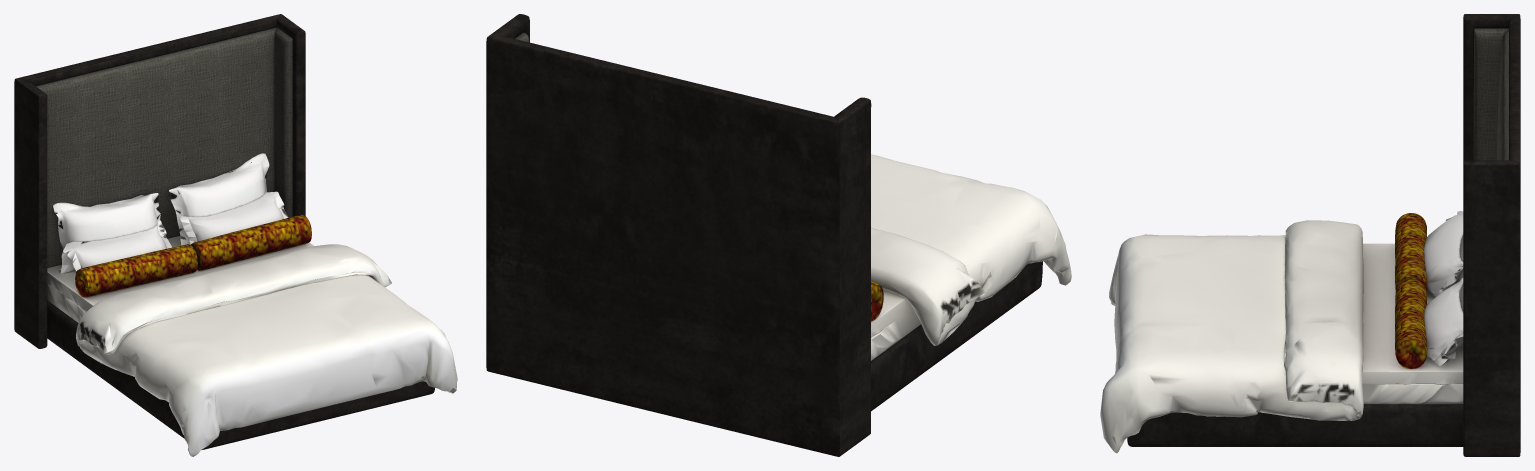
Rendered from raw_model.obj.
The picture shows the model from 3 angles, left to right: view 1: azimuth 30°, elevation 25°; view 2: azimuth 150°, elevation 25°; view 3: azimuth 270°, elevation 25°; orthographic projection. The views are drawn at different scales.
Parts seen in each view (by area): view 1: solid_001, solid_004, solid_003, solid_002, solid_005; view 2: solid_003, solid_001; view 3: solid_001, solid_003, solid_002, solid_004, solid_005.
Boxes of the visible parts, x1,y1,x2,y2 form: solid_001: (47, 236, 457, 456); solid_004: (36, 27, 292, 267); solid_003: (14, 14, 434, 449); solid_002: (53, 153, 288, 283); solid_005: (75, 215, 311, 297); solid_003: (486, 14, 1042, 456); solid_001: (871, 154, 1071, 360); solid_001: (1100, 220, 1463, 453); solid_003: (1127, 14, 1520, 456); solid_002: (1424, 211, 1463, 366); solid_004: (1473, 28, 1508, 160); solid_005: (1395, 213, 1426, 368).
Size of the model in its own units: 2.1 by 1.77 by 2.29.
Materials: 1 (1 with a texture image).
